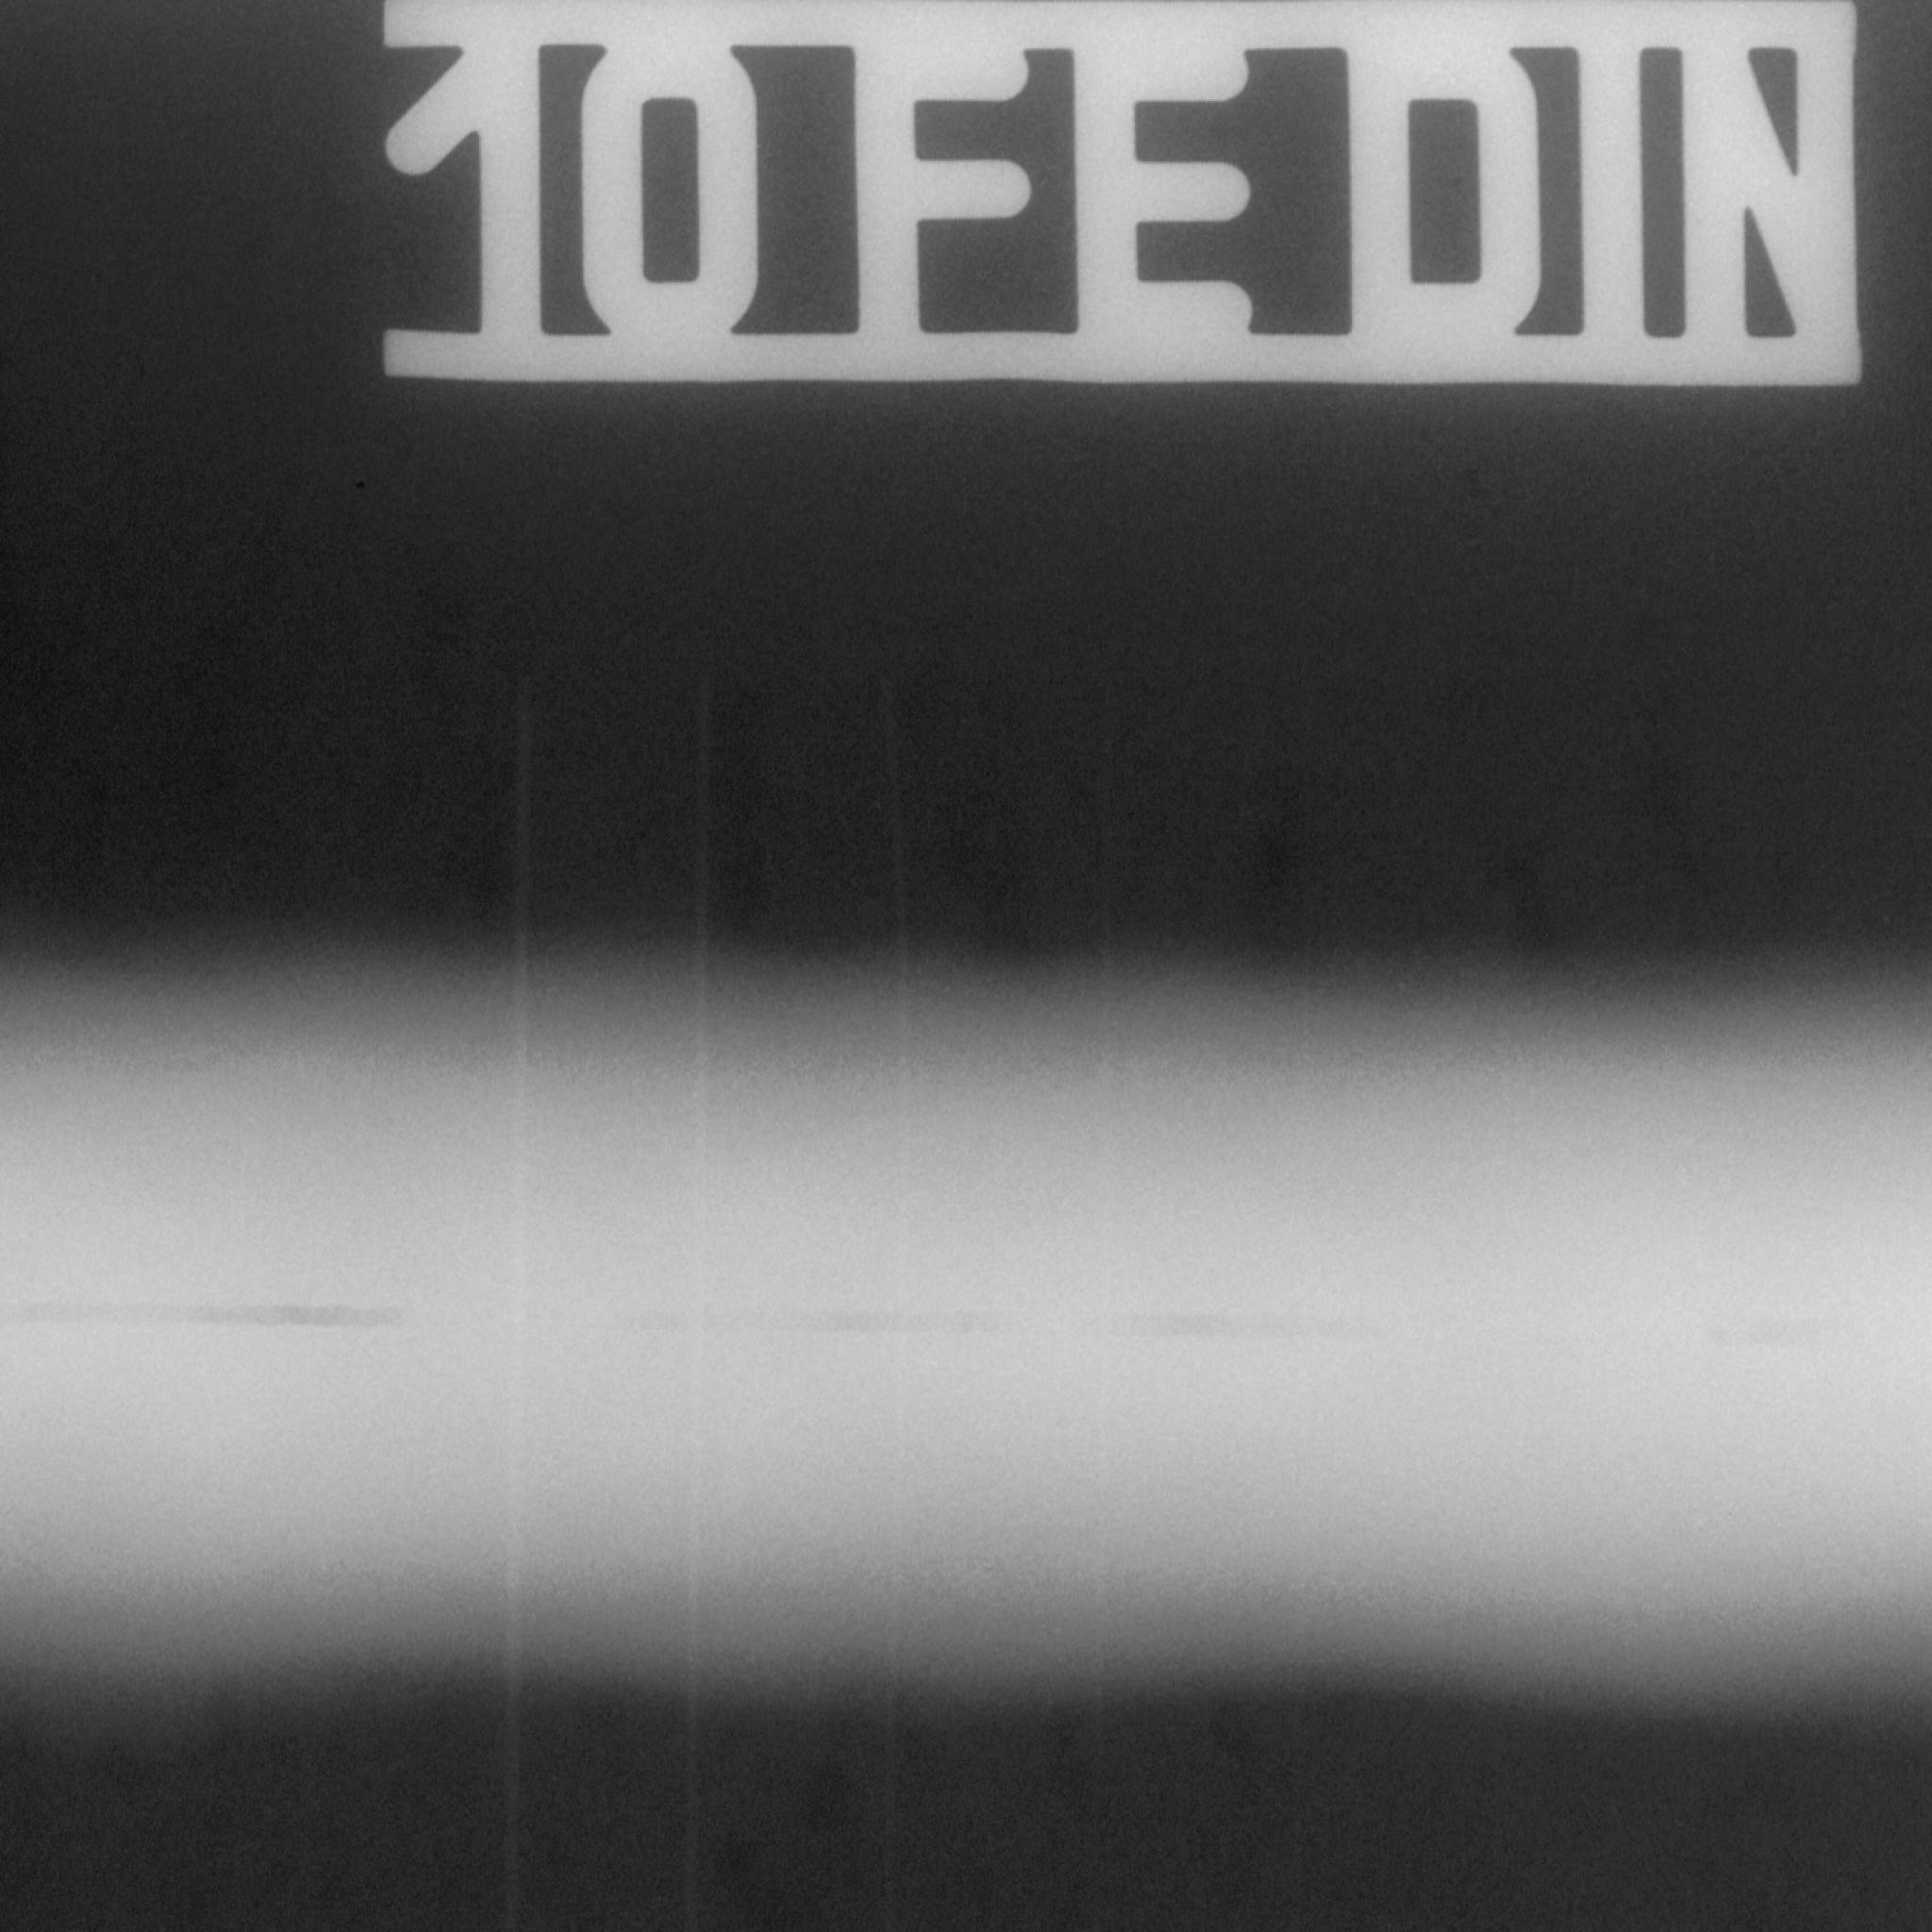FP: (0, 1165, 1932, 1457)
